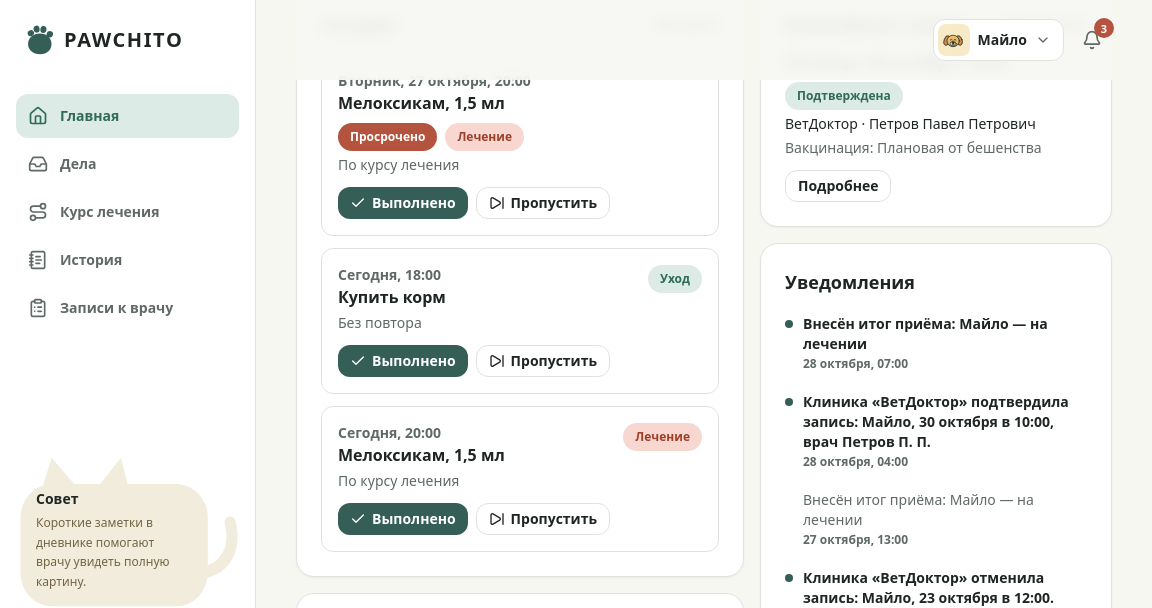
Scenario: HomePage: сводка выбранного питомца › пропуск — с подтверждением; отмечены все дела — «На сегодня дел нет»
(page scrolled)
Click the button named "Пропустить, Купить корм, сегодня, 18:00" at (543, 360), box [476,344,610,376]
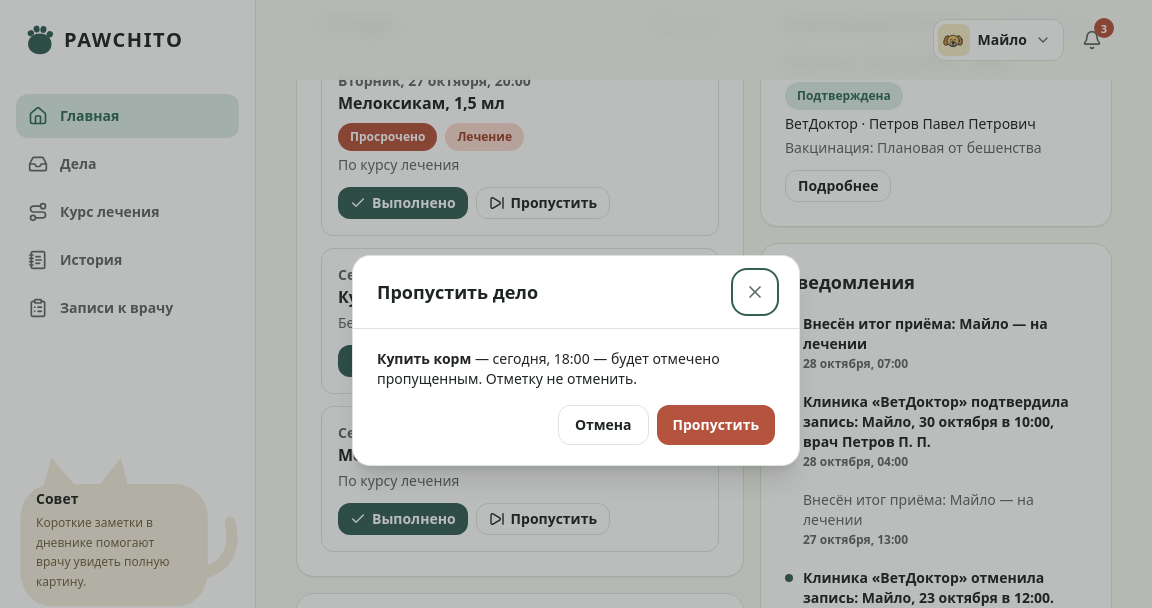
Expected: the text "будет отмечено пропущенным" is shown, [377,348,720,388]
Click the button "Пропустить" at (716, 424), box [657,404,775,444]
(page scrolled)
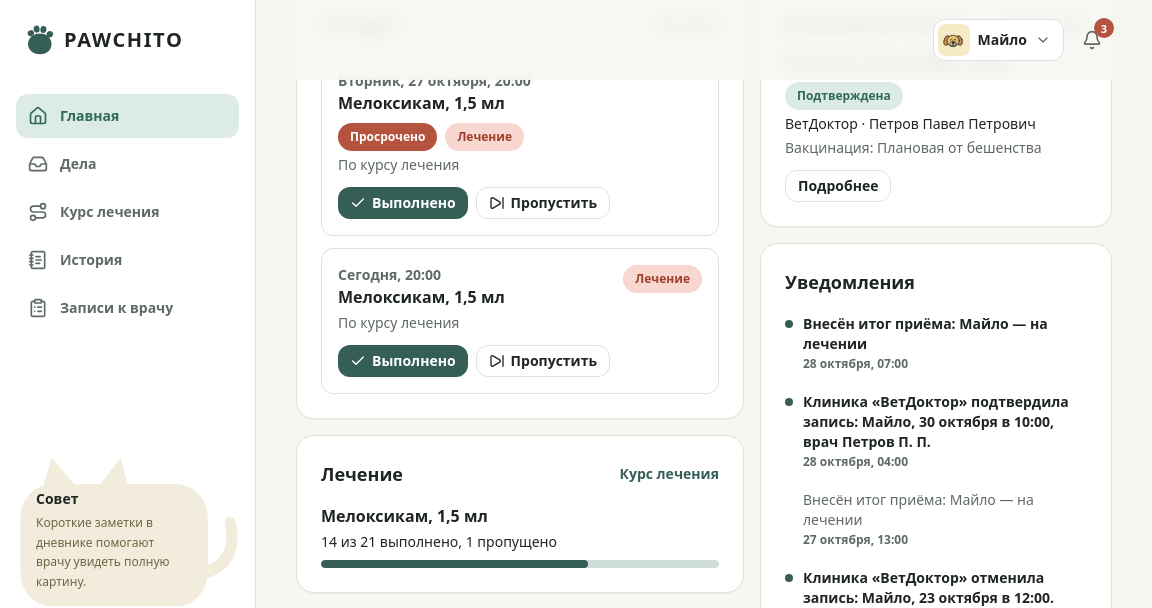
Click the button named "Выполнено, Мелоксикам, 1,5 мл, вторник, 27 октября, 20:00" at (403, 202), box [338,186,468,218]
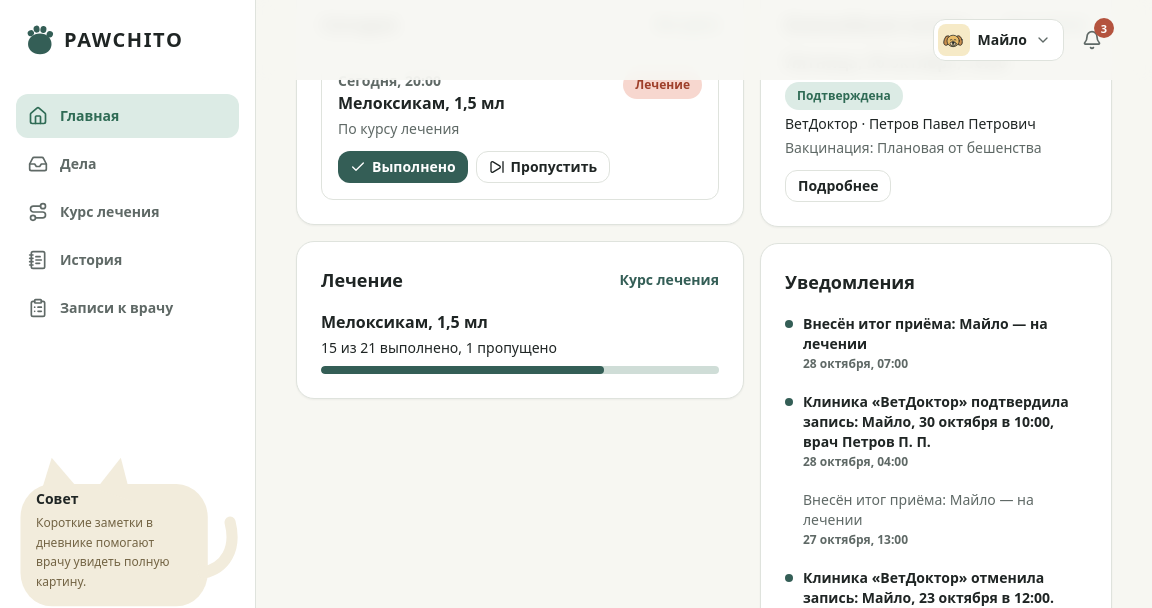
Click the button named "Выполнено, Мелоксикам, 1,5 мл, сегодня, 20:00" at (403, 166), box [338,150,468,182]
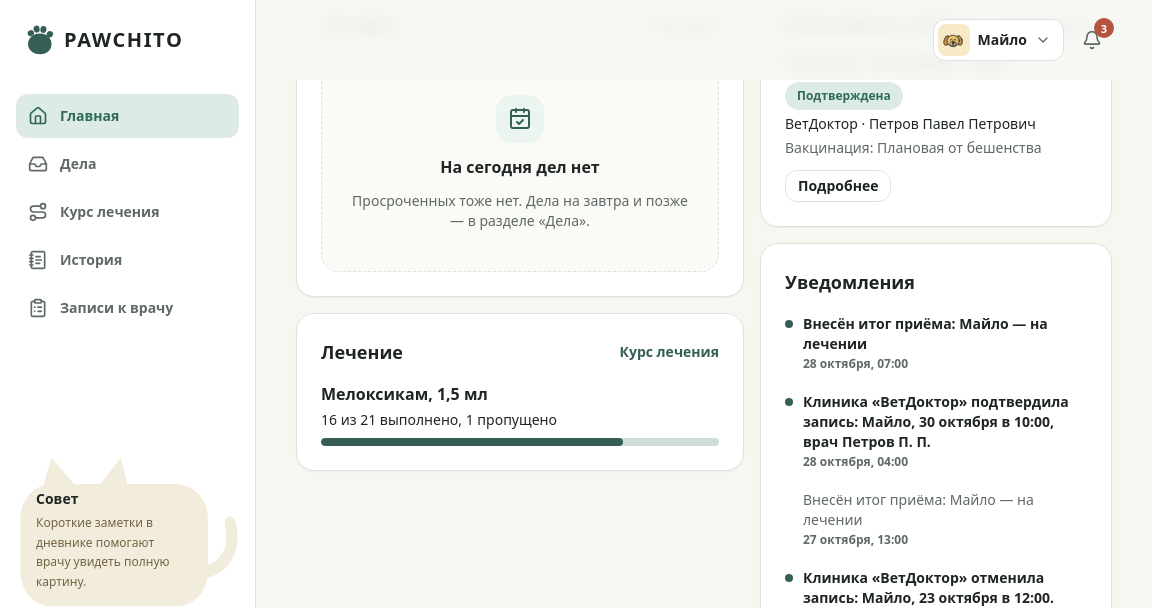
Expected: the heading "На сегодня дел нет" is shown, [440,154,600,178]
Expected: the text "16 из 21 выполнено, 1 пропущено" is shown, [321,410,557,428]
